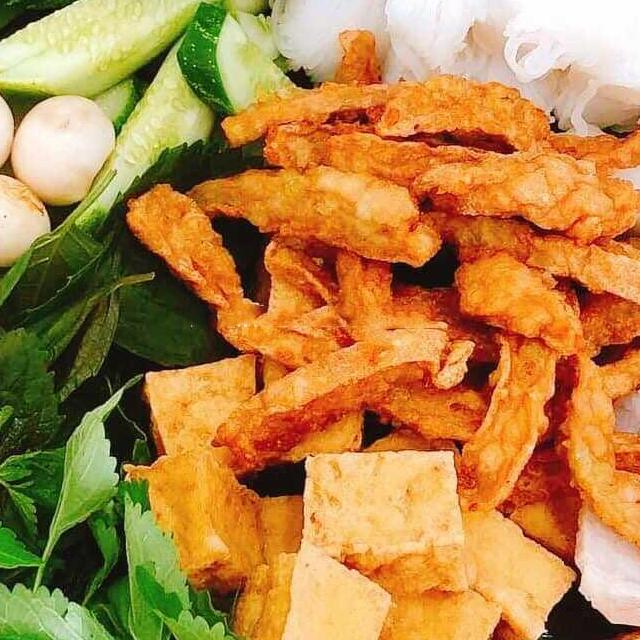bun: (259, 0, 640, 251)
bun dau: (0, 0, 640, 640)
cha com: (101, 0, 640, 571)
dau hu: (106, 330, 640, 640)
